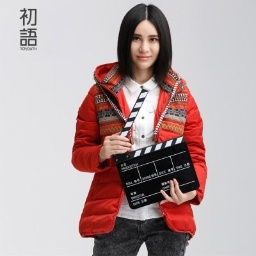face: (116, 1, 176, 87)
